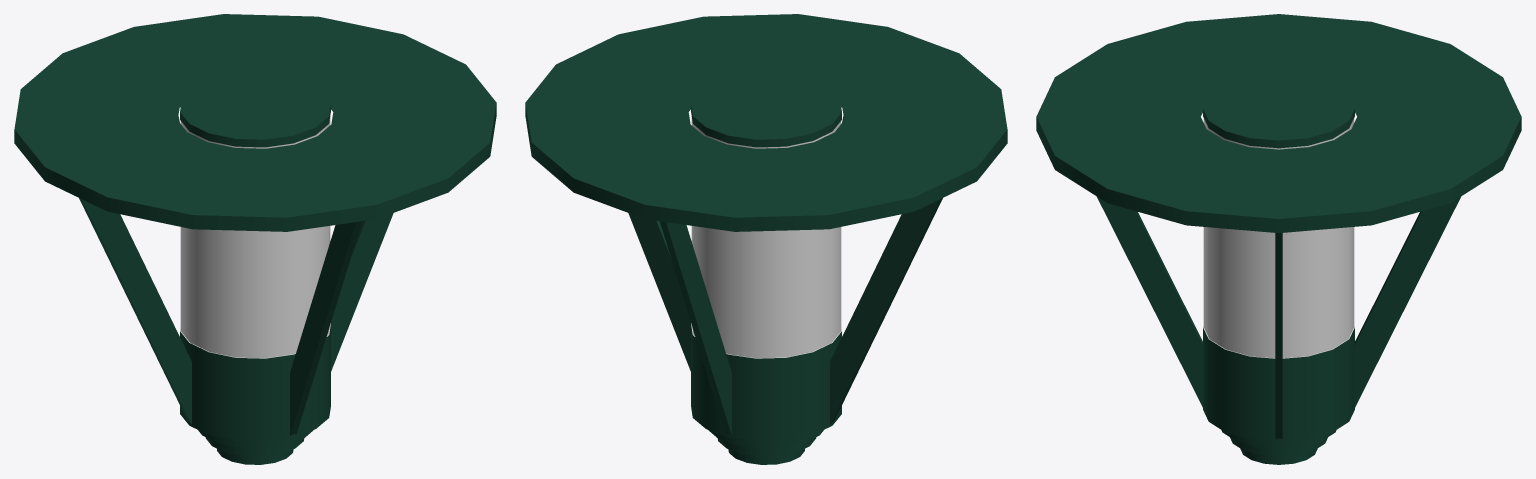
File: Vista.glb
3 renders of one model, left to right at view 1: azimuth 30°, elevation 25°; view 2: azimuth 150°, elevation 25°; view 3: azimuth 270°, elevation 25°, orthographic.
Visible parts, largest first — view 1: Gehaeuse.001, Glas.001, Streben; view 2: Gehaeuse.001, Glas.001, Streben; view 3: Gehaeuse.001, Glas.001, Streben.
Boxes of the visible parts, left/top/right/bottom form: Gehaeuse.001: left=14, top=14, right=496, bottom=464; Glas.001: left=180, top=117, right=330, bottom=358; Streben: left=79, top=116, right=393, bottom=435; Gehaeuse.001: left=525, top=14, right=1007, bottom=464; Glas.001: left=691, top=117, right=841, bottom=358; Streben: left=628, top=116, right=942, bottom=435; Gehaeuse.001: left=1036, top=14, right=1521, bottom=464; Glas.001: left=1203, top=118, right=1354, bottom=358; Streben: left=1096, top=196, right=1461, bottom=439.
Bounding box in the file's own units: 0.65 × 0.5028 × 0.65.
Materials: 3 (2 with a texture image).
